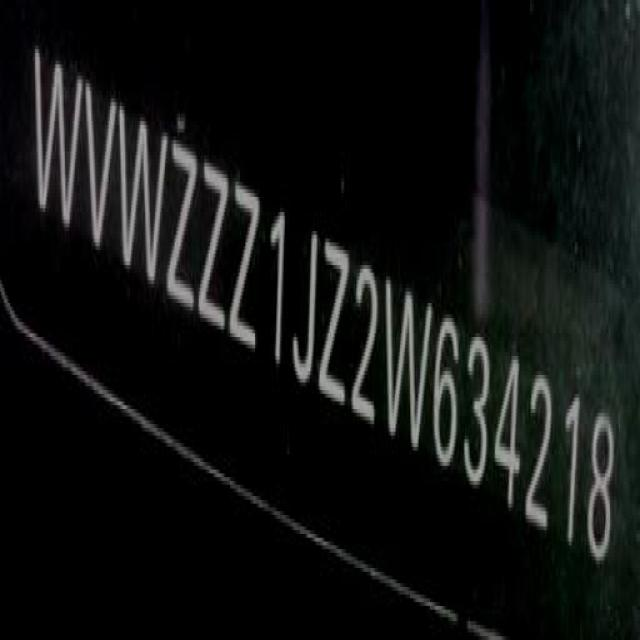1: (265, 196, 288, 377), (562, 382, 585, 557)
2: (525, 360, 555, 539), (350, 253, 378, 429)
3: (462, 320, 489, 496)
4: (496, 341, 524, 521)
6: (435, 303, 461, 481)
8: (589, 405, 619, 571)
J: (291, 216, 321, 394)
V: (83, 76, 116, 247)
W: (30, 48, 84, 244), (118, 104, 170, 296), (385, 266, 434, 458)
Z: (168, 128, 202, 325), (229, 168, 262, 356), (200, 147, 232, 339), (319, 231, 351, 416)
